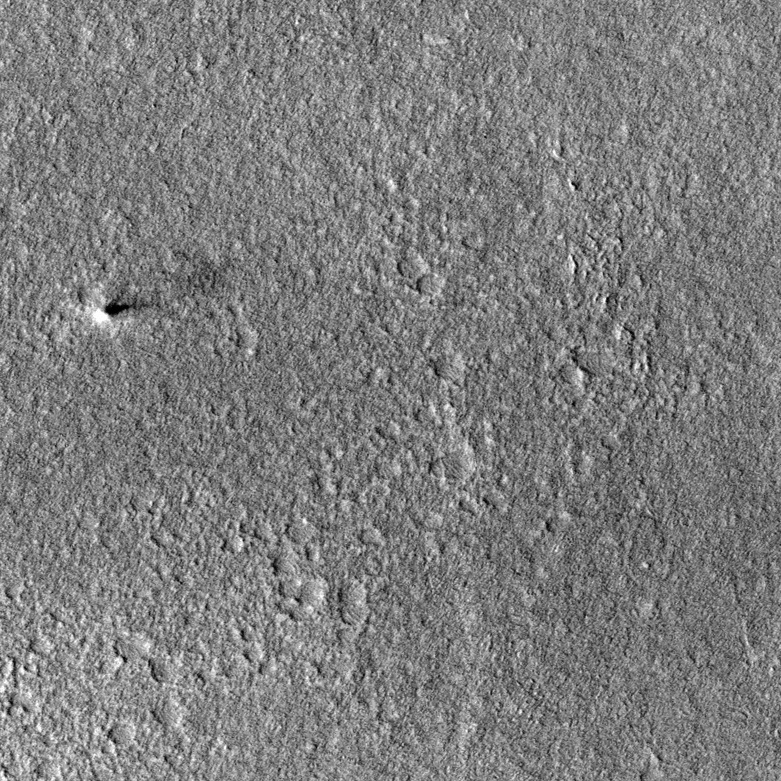dust_devil: (89, 296, 162, 328)
